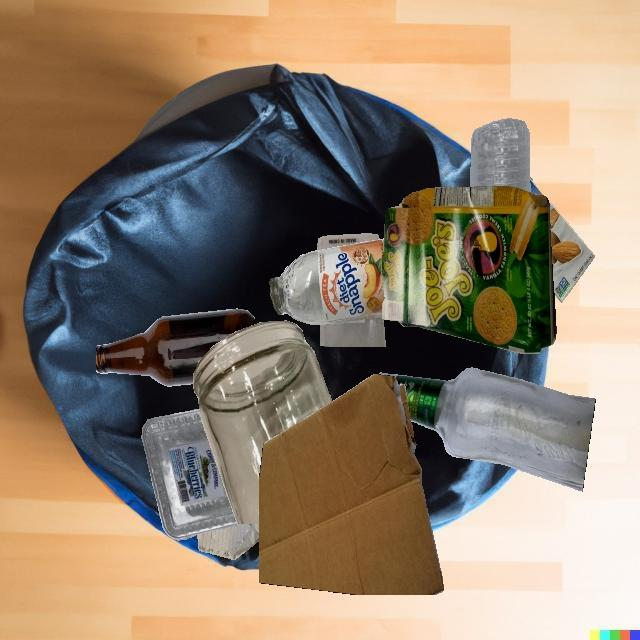cardboard: (259, 374, 444, 595), (381, 186, 556, 353), (548, 200, 594, 303)
glass: (193, 320, 332, 524), (379, 368, 596, 491), (96, 308, 255, 387), (270, 239, 385, 324)
paper: (198, 524, 259, 560)
plastic: (142, 409, 242, 540), (470, 118, 530, 193), (320, 316, 386, 347), (317, 233, 379, 250)
